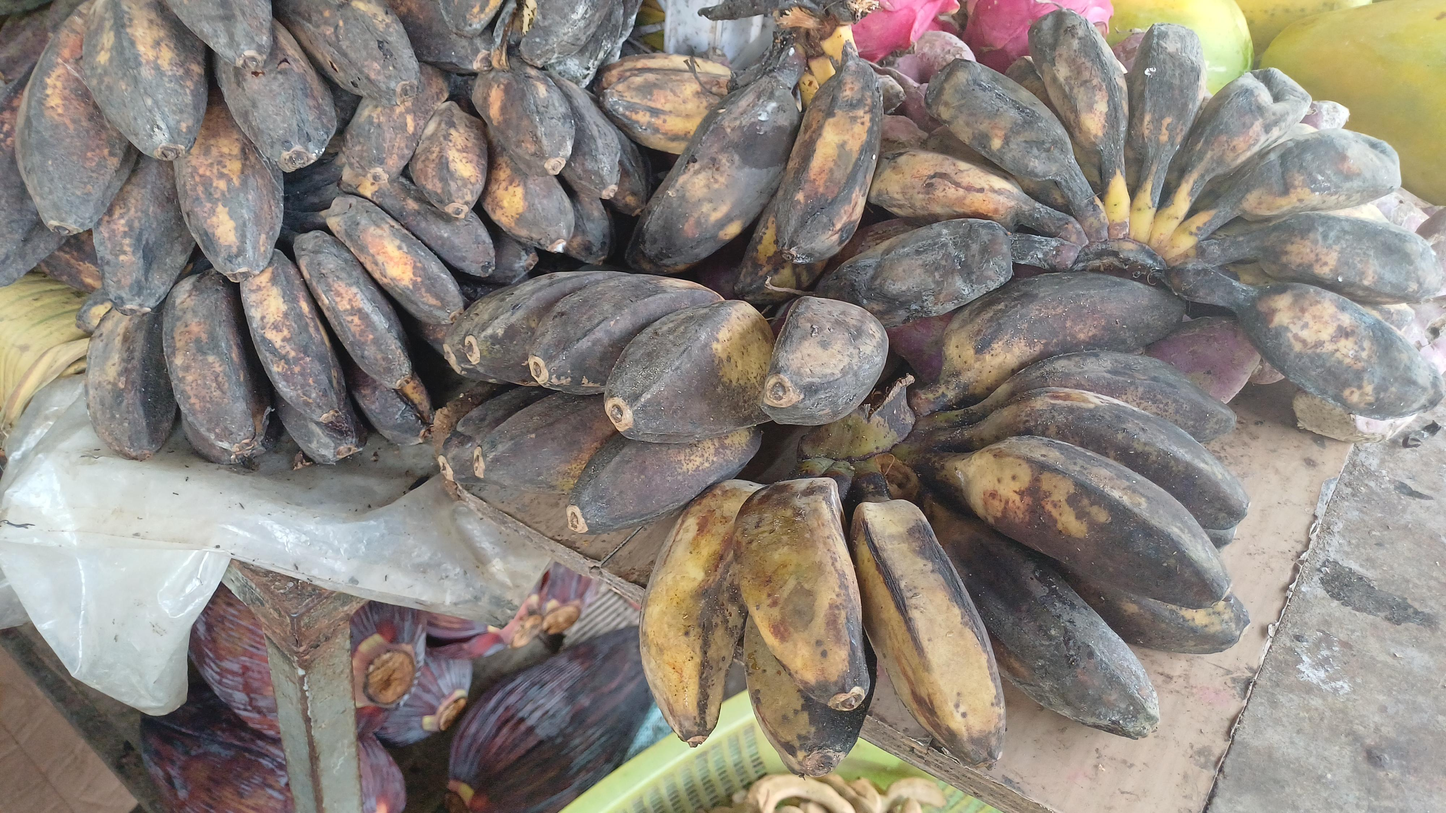overripe: (638, 271, 1251, 777), (813, 9, 1445, 420), (0, 0, 495, 310), (86, 178, 512, 465), (441, 271, 888, 533), (342, 53, 651, 268), (629, 59, 882, 304)
